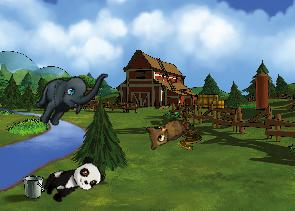elephant: (30, 53, 108, 139)
owl: (139, 104, 193, 154)
panda: (39, 153, 106, 208)
